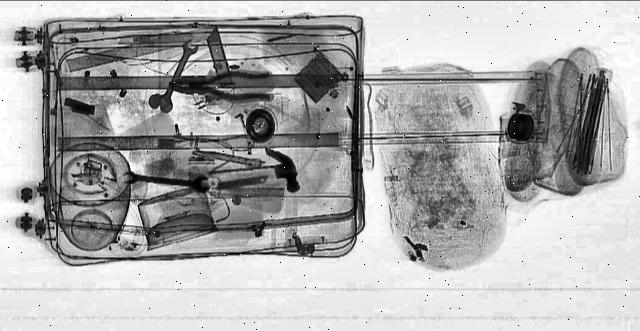Pliers: (169, 70, 275, 103)
Wrench: (148, 39, 206, 109), (120, 170, 214, 194)
